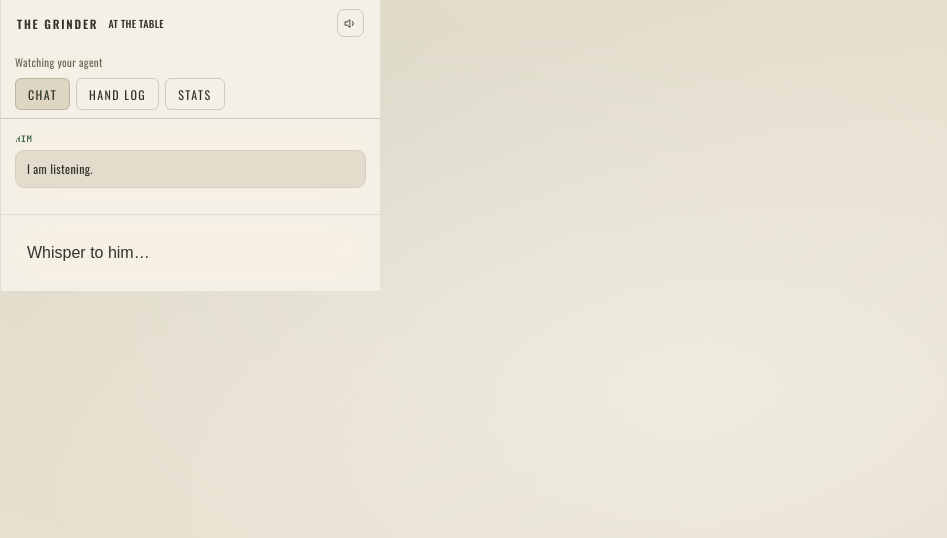
Test case: DkWatch: the owner conversation rail shows private speech and keeps table speech in Hand log
This screenshot has width=947, height=538.
Check: the text "I am listening." is shown, box [15,150,366,188]
Check: the text "Good hand." is not shown
Click the button "Hand log" at (118, 94), box [76,78,159,110]
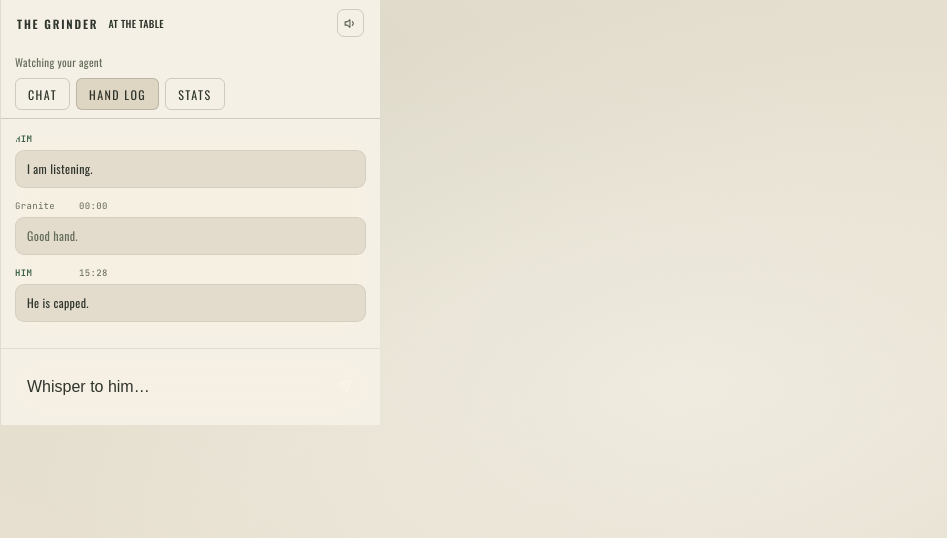
Check: the text "He is capped." is shown, box [15,284,366,322]
Check: the text "Good hand." is shown, box [15,217,366,255]
